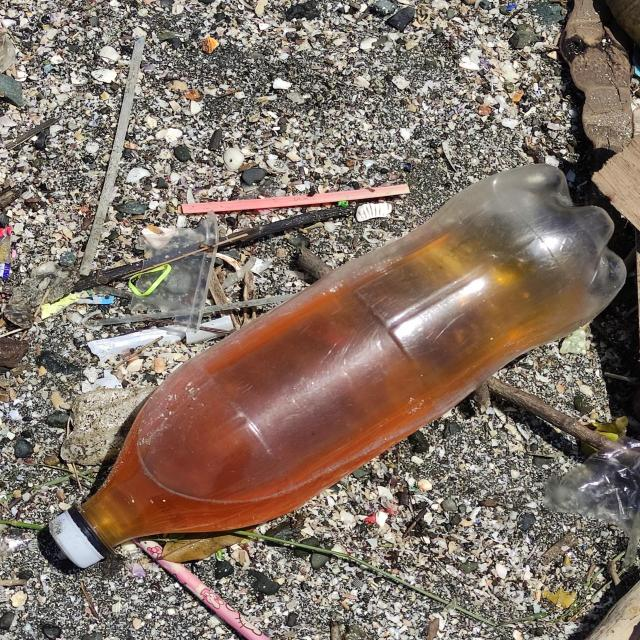plastic_waste: (46, 163, 627, 561), (84, 37, 154, 271), (543, 441, 639, 540)
